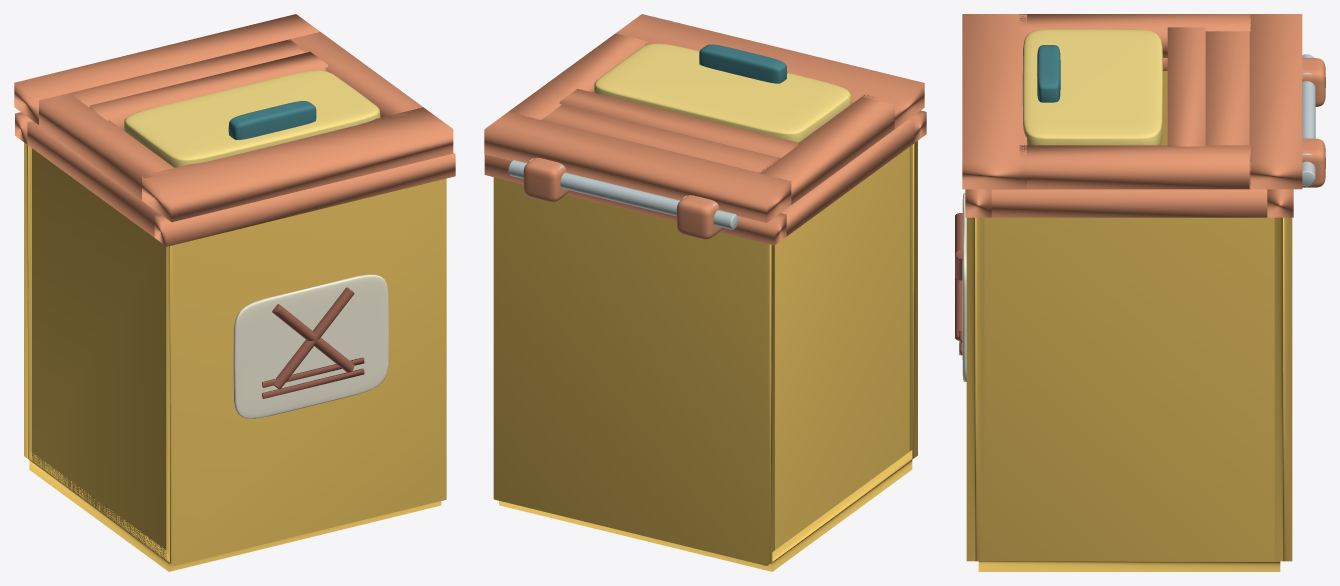
File: sharps_container.glb
3 views of the same model, side by side, from view 1: azimuth 30°, elevation 25°; view 2: azimuth 150°, elevation 25°; view 3: azimuth 270°, elevation 25° (orthographic). The views are drawn at different scales.
Parts seen in each view (by area): view 1: Body_Front, Body_Left, Lid_Frame_Front, Front_Label, Deposit_Shutter_Plate, Lid_Frame_Back, Top_Rim_Front, Lid_Frame_Left, Deposit_Hinge_Crossbar, Lid_Back_Panel, Body_Bottom, Top_Rim_Left (+6 smaller); view 2: Body_Back, Body_Left, Lid_Frame_Back, Deposit_Shutter_Plate, Lid_Frame_Front, Lid_Frame_Left, Deposit_Hinge_Crossbar, Lid_Back_Panel, Body_Bottom, Top_Rim_Left, Lid_Frame_Right, Body_Front (+5 smaller); view 3: Body_Right, Deposit_Shutter_Plate, Lid_Frame_Front, Lid_Frame_Right, Lid_Frame_Back, Top_Rim_Right, Body_Front, Body_Back, Lid_Back_Panel, Deposit_Hinge_Crossbar, Lid_Frame_Left, Body_Bottom (+8 smaller).
Part boxes in pixels (x1=…): Body_Front: x1=166, y1=178, x2=446, y2=565; Body_Left: x1=32, y1=148, x2=166, y2=559; Lid_Frame_Front: x1=142, y1=107, x2=453, y2=222; Front_Label: x1=233, y1=274, x2=388, y2=418; Deposit_Shutter_Plate: x1=124, y1=70, x2=380, y2=167; Lid_Frame_Back: x1=14, y1=14, x2=320, y2=124; Top_Rim_Front: x1=154, y1=153, x2=455, y2=246; Lid_Frame_Left: x1=38, y1=93, x2=175, y2=201; Deposit_Hinge_Crossbar: x1=89, y1=51, x2=327, y2=130; Lid_Back_Panel: x1=69, y1=39, x2=306, y2=107; Body_Bottom: x1=29, y1=452, x2=441, y2=571; Top_Rim_Left: x1=27, y1=121, x2=159, y2=237; Body_Back: x1=493, y1=177, x2=774, y2=565; Body_Left: x1=775, y1=147, x2=909, y2=549; Lid_Frame_Back: x1=484, y1=111, x2=791, y2=222; Deposit_Shutter_Plate: x1=594, y1=43, x2=851, y2=142; Lid_Frame_Front: x1=613, y1=14, x2=924, y2=128; Lid_Frame_Left: x1=758, y1=94, x2=894, y2=204; Deposit_Hinge_Crossbar: x1=559, y1=88, x2=798, y2=157; Lid_Back_Panel: x1=542, y1=104, x2=780, y2=172; Body_Bottom: x1=499, y1=450, x2=912, y2=571; Top_Rim_Left: x1=781, y1=119, x2=914, y2=236; Lid_Frame_Right: x1=509, y1=33, x2=647, y2=119; Body_Front: x1=909, y1=141, x2=917, y2=459; Body_Right: x1=984, y1=217, x2=1274, y2=561; Deposit_Shutter_Plate: x1=1022, y1=29, x2=1163, y2=145; Lid_Frame_Front: x1=962, y1=14, x2=1026, y2=189; Lid_Frame_Right: x1=1019, y1=145, x2=1250, y2=189; Lid_Frame_Back: x1=1249, y1=14, x2=1302, y2=189; Top_Rim_Right: x1=991, y1=189, x2=1267, y2=217; Body_Front: x1=966, y1=217, x2=984, y2=561; Body_Back: x1=1274, y1=217, x2=1292, y2=561; Lid_Back_Panel: x1=1205, y1=30, x2=1249, y2=145; Deposit_Hinge_Crossbar: x1=1167, y1=27, x2=1205, y2=146; Lid_Frame_Left: x1=1019, y1=14, x2=1250, y2=57; Body_Bottom: x1=978, y1=561, x2=1280, y2=571.
Bounding box in the file's own units: 0.246 × 0.329 × 0.253.
